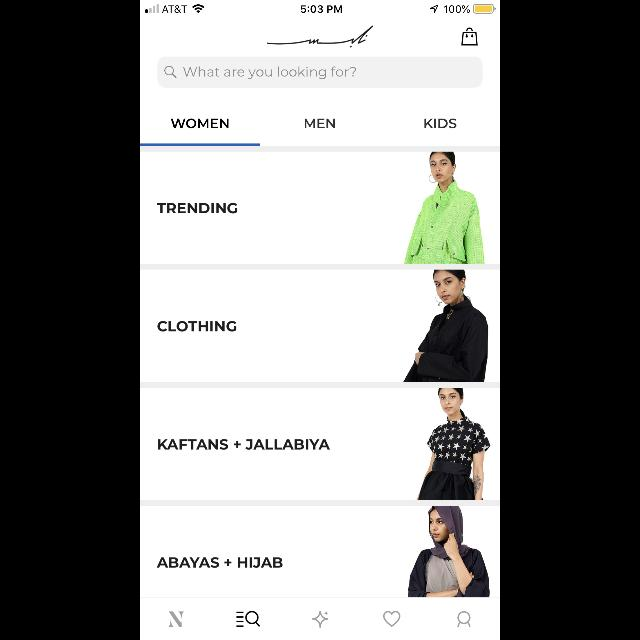icon: (236, 611, 260, 627), (462, 28, 478, 46), (313, 610, 329, 628), (384, 611, 401, 627), (458, 611, 470, 627), (165, 66, 177, 78)
image: (403, 270, 489, 382), (404, 152, 484, 264), (416, 388, 490, 500), (408, 507, 490, 598), (267, 26, 373, 48), (168, 611, 184, 627)
input: (158, 56, 482, 88)
text: (184, 66, 356, 80), (158, 438, 330, 449), (157, 556, 283, 568), (157, 202, 237, 214), (158, 322, 236, 332), (171, 118, 229, 128), (304, 119, 336, 129), (425, 118, 457, 128)
uppertaskbar: (140, 0, 500, 14)
